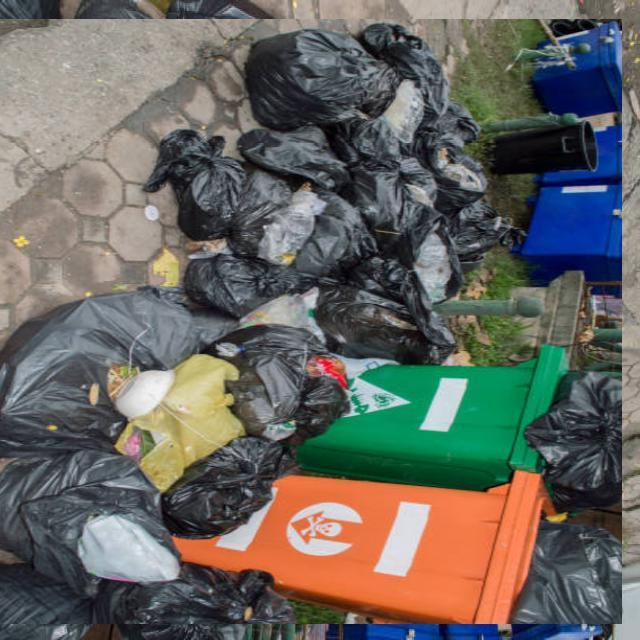Trashbag: (0, 273, 131, 445), (0, 449, 163, 584), (243, 18, 402, 124), (320, 267, 470, 375), (153, 428, 287, 546), (547, 368, 628, 512), (537, 522, 640, 632), (155, 127, 239, 249), (132, 575, 278, 640), (220, 317, 292, 438), (175, 253, 303, 314), (278, 202, 382, 270), (0, 570, 98, 640), (358, 159, 446, 233), (248, 119, 344, 182), (438, 141, 492, 216), (456, 216, 525, 265), (416, 98, 481, 142), (400, 10, 445, 70), (301, 377, 342, 438), (244, 175, 278, 243)
